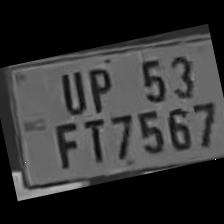3: (161, 46, 198, 100)
5: (132, 54, 168, 106), (130, 104, 165, 156)
6: (158, 102, 193, 152)
7: (101, 107, 137, 163), (186, 93, 222, 149)
F: (45, 116, 84, 173)
P: (77, 58, 117, 111)
T: (74, 112, 110, 165)
U: (48, 62, 89, 117)
